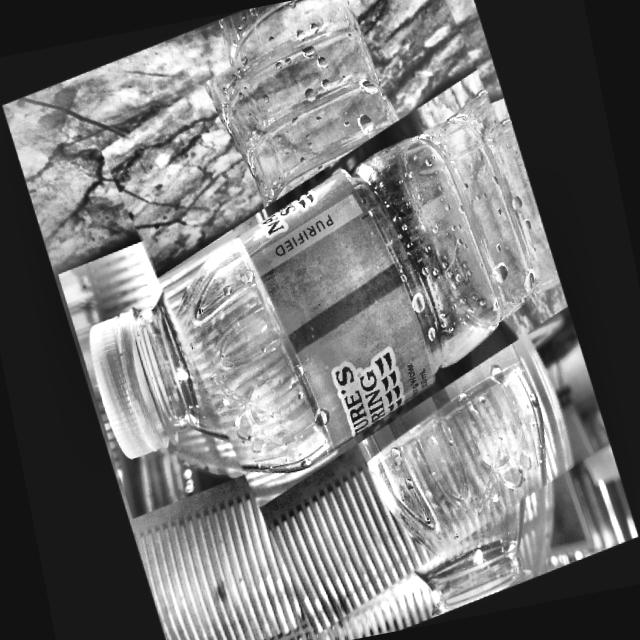Plastic-Bottle: (88, 0, 638, 640)
